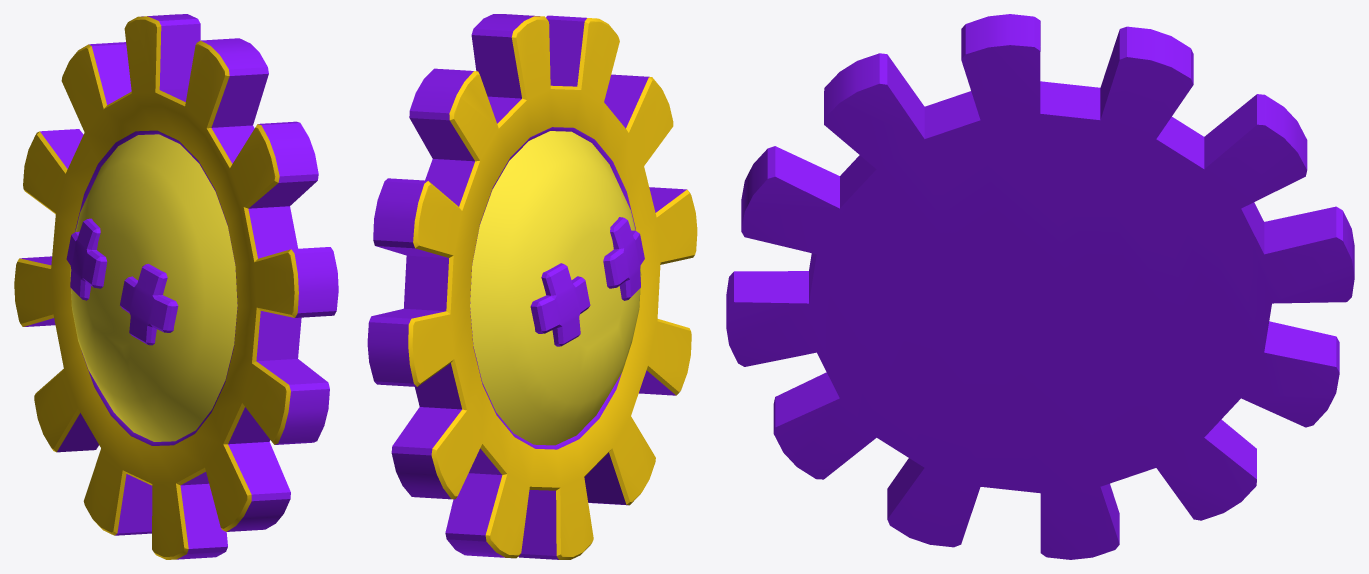
The model's file is BigGier.fbx.
The picture shows the model from 3 angles, left to right: view 1: azimuth 30°, elevation 25°; view 2: azimuth 150°, elevation 25°; view 3: azimuth 270°, elevation 25°; orthographic projection. The views are drawn at different scales.
Visible parts, largest first — view 1: BigGier_LOD0; view 2: BigGier_LOD0; view 3: BigGier_LOD0.
Part boxes in pixels (x1=…): BigGier_LOD0: x1=14, y1=14, x2=338, y2=559; BigGier_LOD0: x1=367, y1=14, x2=697, y2=559; BigGier_LOD0: x1=726, y1=14, x2=1354, y2=559.
Size of what is drawn, in the model's own units: 0.97 by 3.42 by 3.42.
